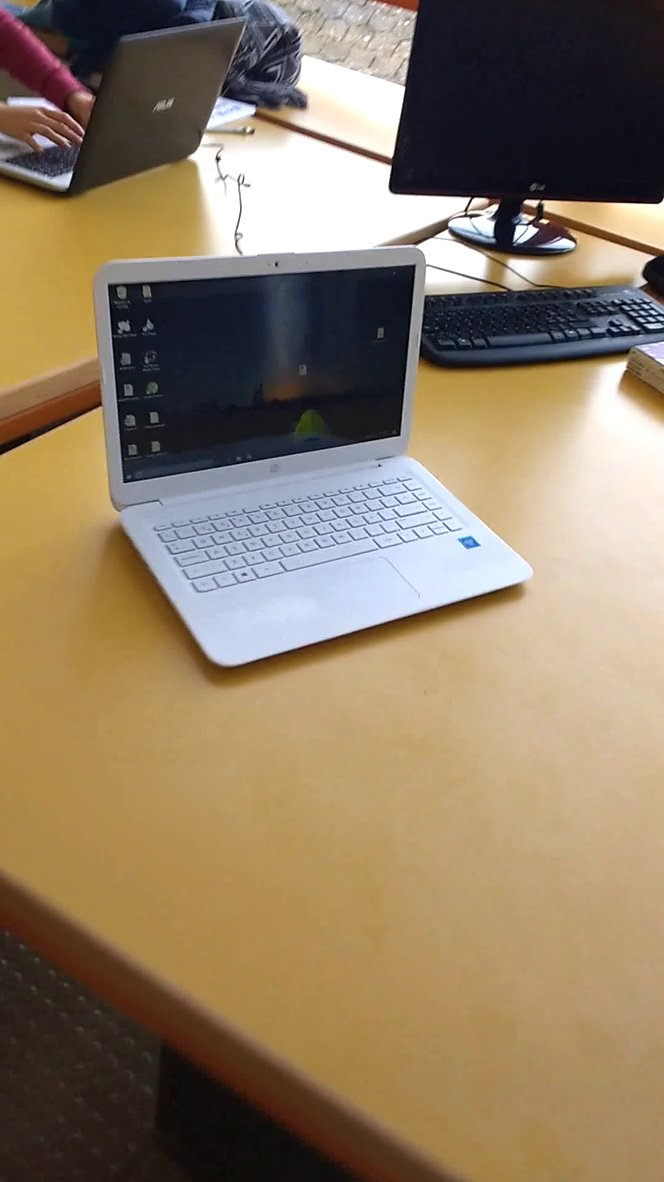laptop: (86, 234, 544, 680), (1, 12, 253, 205)
